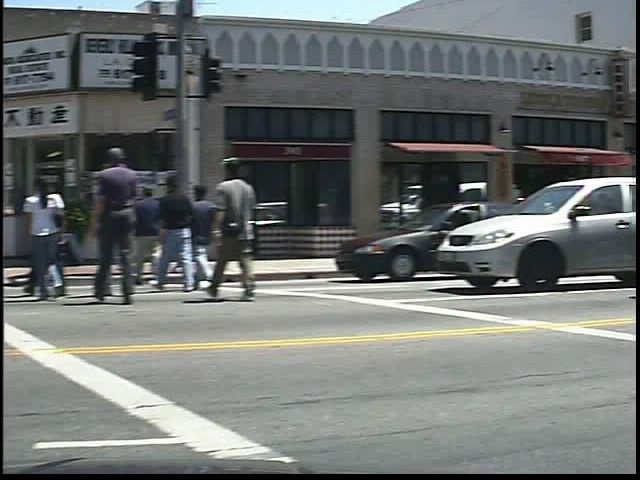person: (104, 148, 171, 313), (38, 176, 88, 308)
